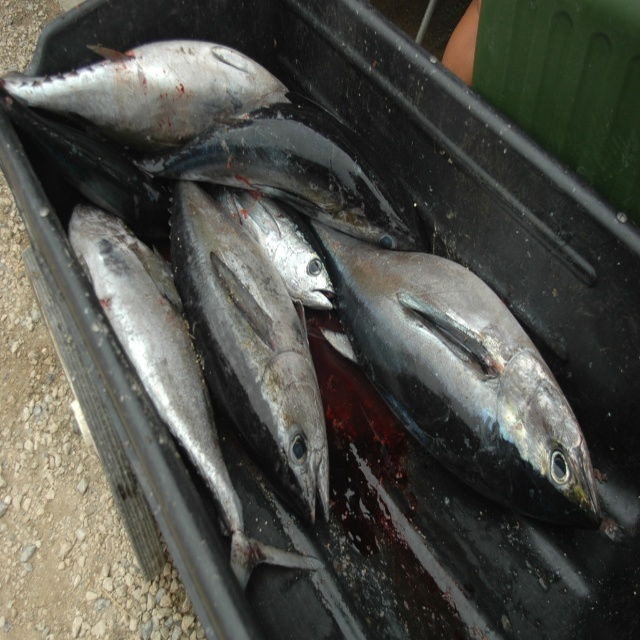Fish: (0, 38, 603, 593)
